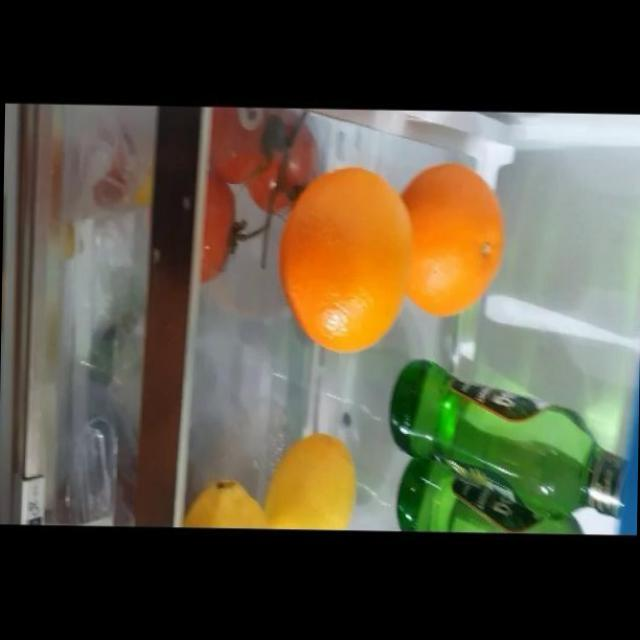Limón: (271, 443, 354, 530)
mineral water: (394, 366, 635, 524)
orange: (282, 166, 402, 355), (400, 162, 503, 323)
